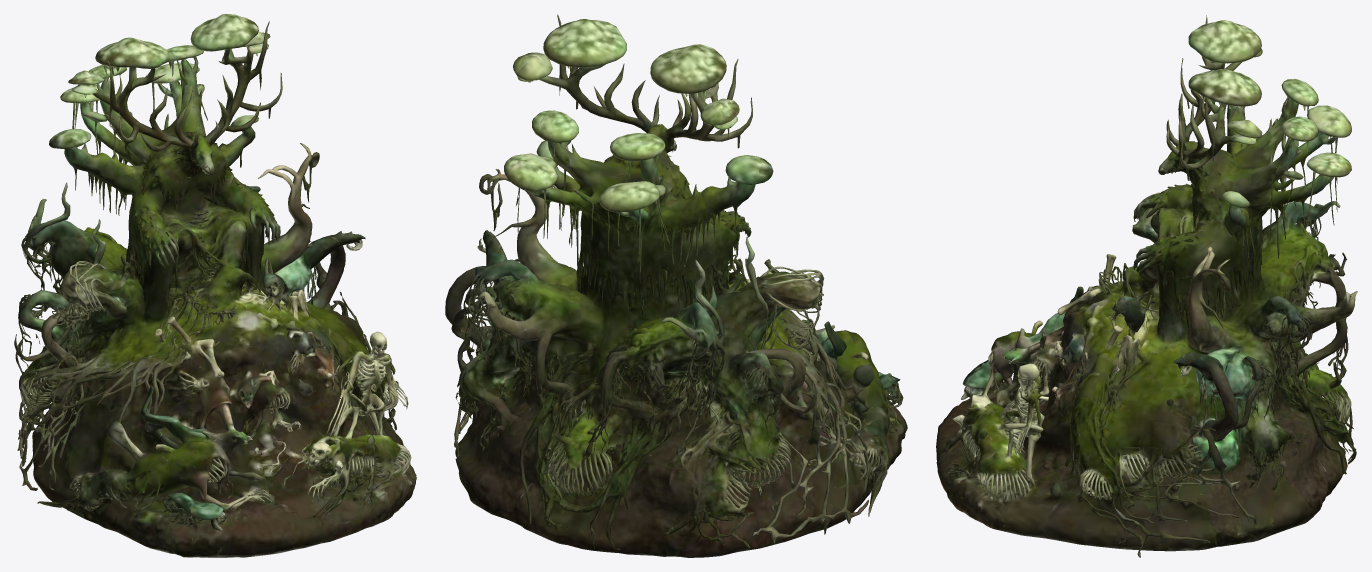
Rendered from mini_gv06.glb.
The picture shows the model from 3 angles, left to right: view 1: azimuth 30°, elevation 25°; view 2: azimuth 150°, elevation 25°; view 3: azimuth 270°, elevation 25°; orthographic projection. The views are drawn at different scales.
Bounding box in the file's own units: 1.67 × 1.9 × 1.71.
Materials: 1 (1 with a texture image).
